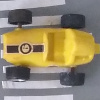amarillo_oeste: (4, 10, 100, 86)
